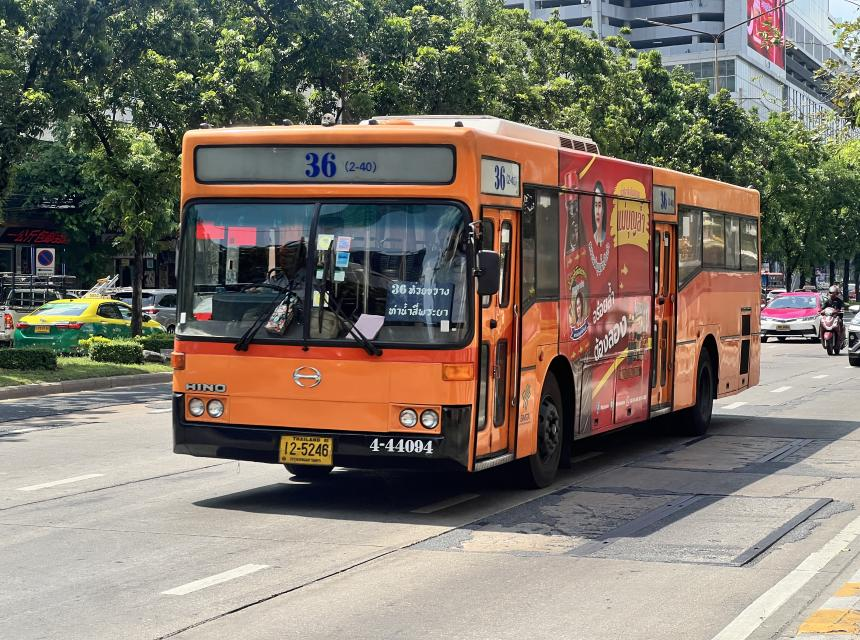BMTA-bus: (169, 115, 765, 488)
Bus Line Number: (297, 148, 384, 181)
Bus Side Number: (366, 434, 438, 460)
Destination Sign: (382, 280, 457, 323)
